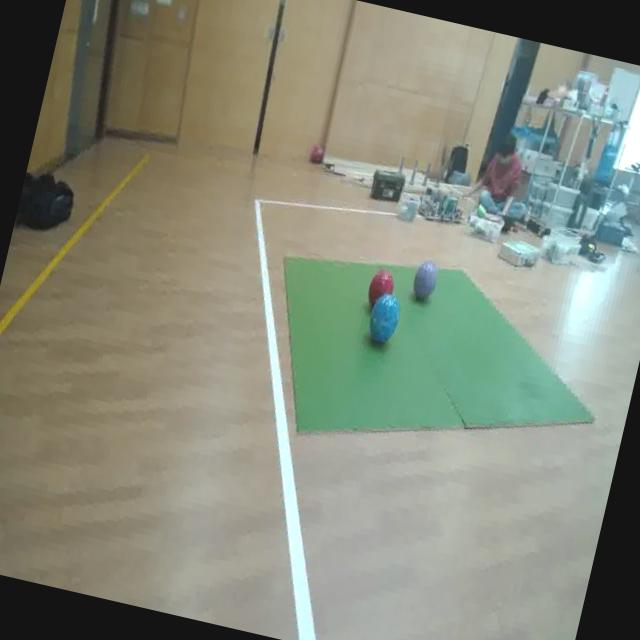blue_ball: (366, 292, 403, 345)
purple_ball: (409, 258, 440, 304)
red_ball: (365, 266, 397, 308)
